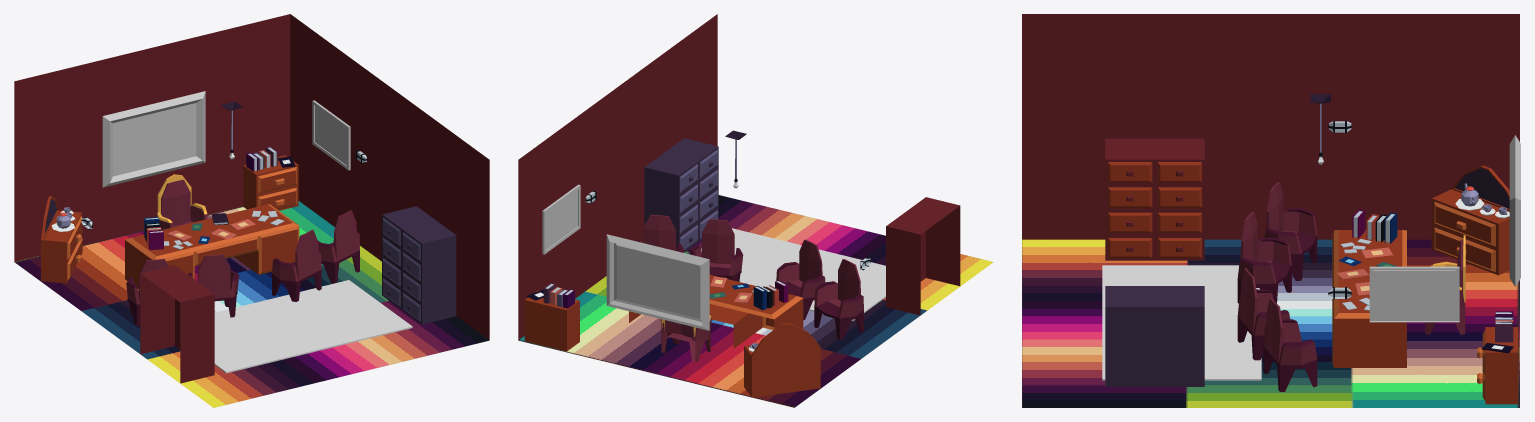
File: MENUMAPAS.fbx
3 renders of one model, left to right at view 1: azimuth 30°, elevation 25°; view 2: azimuth 150°, elevation 25°; view 3: azimuth 270°, elevation 25°, orthographic. The views are drawn at different scales.
Parts seen in each view (by area): view 1: Paredes, Chao, Armarios, Tapete, QuadroColiseu, MesaSV, CadeiraSV.001, MesinhasCantos, CadeiraSV, QuadroInvestigativo, BagunçaMesa, Livros1.001 (+1 smaller); view 2: Paredes, Chao, Armarios, CadeiraSV.001, QuadroColiseu, MesinhasCantos, Tapete, MesaSV, QuadroInvestigativo, CadeiraSV, Livros1, BagunçaMesa (+1 smaller); view 3: Paredes, Chao, Armarios, CadeiraSV.001, MesinhasCantos, Tapete, MesaSV, QuadroInvestigativo, QuadroColiseu, BagunçaMesa, Livros1, CadeiraSV (+2 smaller).
Part boxes in pixels (bbox=[...]): Paredes: bbox=[14, 14, 489, 339]; Chao: bbox=[14, 201, 489, 407]; Armarios: bbox=[140, 206, 456, 383]; Tapete: bbox=[214, 280, 412, 373]; QuadroColiseu: bbox=[102, 91, 205, 187]; MesaSV: bbox=[125, 204, 299, 289]; CadeiraSV.001: bbox=[126, 210, 359, 325]; MesinhasCantos: bbox=[41, 155, 298, 283]; CadeiraSV: bbox=[156, 174, 207, 229]; QuadroInvestigativo: bbox=[312, 100, 350, 170]; BagunçaMesa: bbox=[164, 156, 295, 249]; Livros1.001: bbox=[246, 146, 277, 171]; Paredes: bbox=[518, 14, 717, 339]; Chao: bbox=[518, 195, 993, 407]; Armarios: bbox=[644, 138, 960, 315]; CadeiraSV.001: bbox=[637, 214, 863, 339]; QuadroColiseu: bbox=[606, 234, 709, 330]; MesinhasCantos: bbox=[524, 290, 820, 397]; Tapete: bbox=[701, 228, 885, 321]; MesaSV: bbox=[629, 275, 803, 348]; QuadroInvestigativo: bbox=[542, 184, 580, 254]; CadeiraSV: bbox=[660, 315, 711, 362]; Livros1: bbox=[753, 280, 788, 310]; BagunçaMesa: bbox=[526, 276, 753, 303]; Paredes: bbox=[1022, 14, 1519, 239]; Chao: bbox=[1022, 239, 1519, 407]; Armarios: bbox=[1105, 138, 1204, 386]; CadeiraSV.001: bbox=[1237, 182, 1317, 391]; MesinhasCantos: bbox=[1431, 165, 1518, 404]; Tapete: bbox=[1102, 265, 1261, 380]; MesaSV: bbox=[1332, 230, 1406, 367]; QuadroInvestigativo: bbox=[1369, 266, 1459, 322]; QuadroColiseu: bbox=[1509, 135, 1520, 286]; BagunçaMesa: bbox=[1337, 239, 1513, 353]; Livros1: bbox=[1352, 209, 1397, 243]; CadeiraSV: bbox=[1425, 235, 1465, 334].
Bounding box in the file's own units: 8 × 5 × 10.02.
